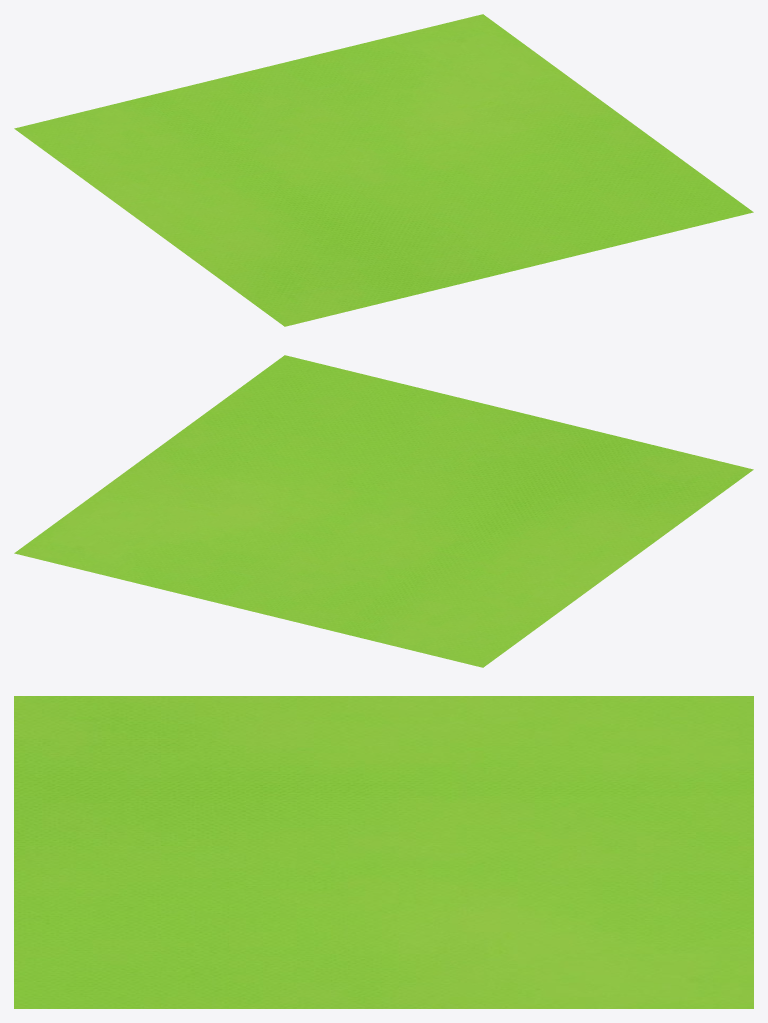
Rendered from Pisosalma.obj.
The picture shows the model from 3 angles, top to bottom: view 1: azimuth 30°, elevation 25°; view 2: azimuth 150°, elevation 25°; view 3: azimuth 270°, elevation 25°; orthographic projection. The views are drawn at different scales.
Visible parts, largest first — view 1: Piso:pPlane1; view 2: Piso:pPlane1; view 3: Piso:pPlane1.
Part boxes in pixels (x1,y1,x2,y2): Piso:pPlane1: (14, 14, 753, 326); Piso:pPlane1: (14, 355, 753, 667); Piso:pPlane1: (14, 696, 753, 1008).
Bounding box in the file's own units: 5000 × 0 × 5000.
Materials: 1 (1 with a texture image).
